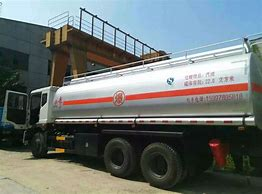oil truck: (12, 30, 261, 189)
